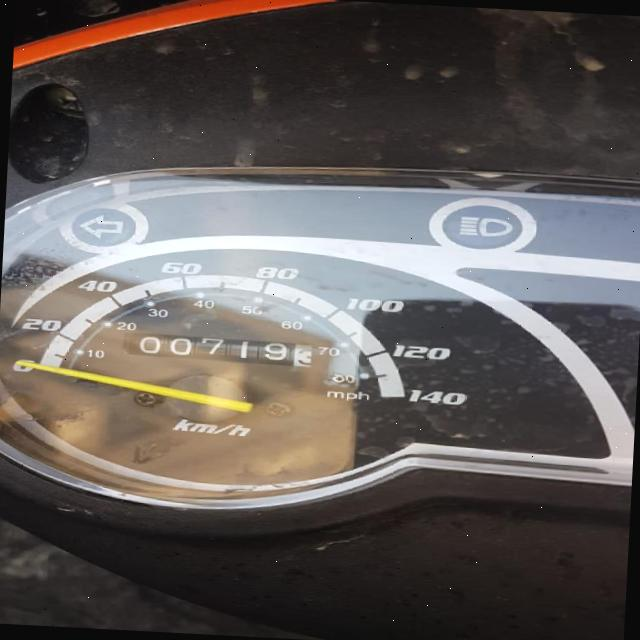odometer: (119, 330, 314, 368)
